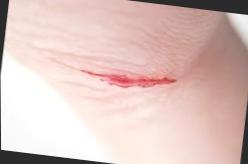Fire: (81, 69, 177, 88)
